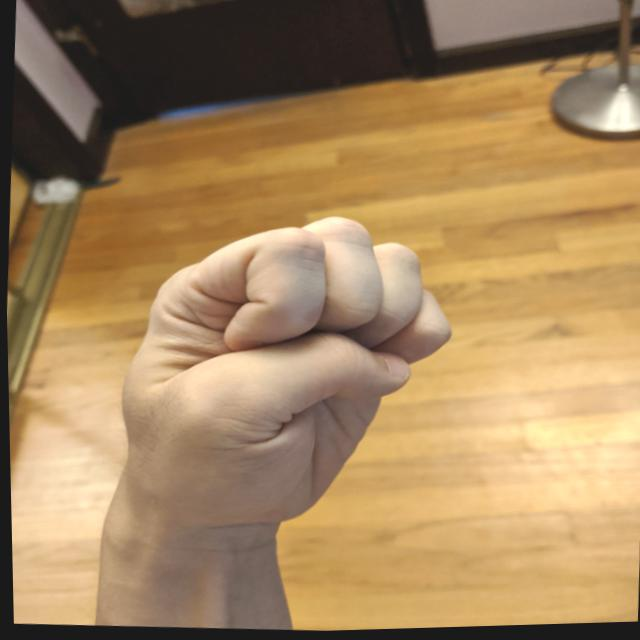E: (98, 200, 471, 551)
